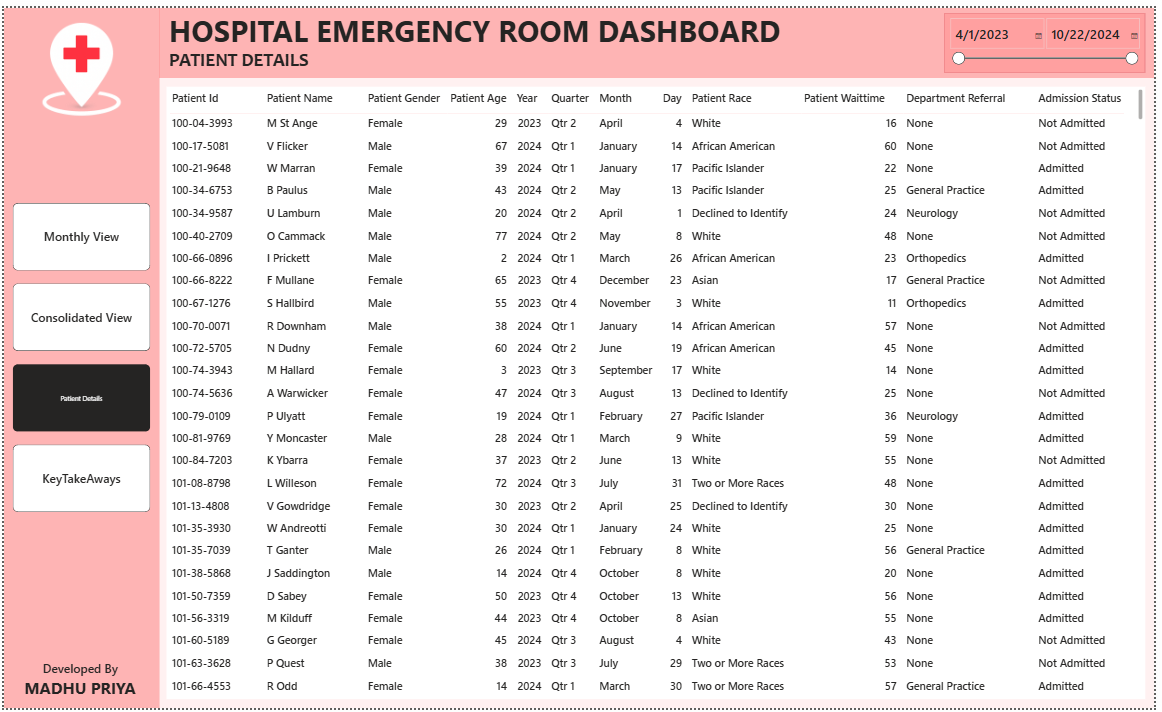

Layout of this report page (visuals, bound fields, positions):
{"tool":"powerbi","page":{"name":"Patient Details","canvas":[2300,1400],"ordinal":2},"visuals":[{"type":"shape","box":[0,0,311.1,1400],"z":0},{"type":"shape","box":[309.2,0,1990.8,140],"z":1000},{"type":"textbox","box":[325.7,0,1245.9,90.4],"z":2000},{"type":"textbox","box":[325,75,307.5,65],"z":3000},{"type":"slicer","fields":{"Values":["Date Table.Date"]},"box":[1880,10,402.5,120],"z":4000},{"type":"image","box":[30,0,250,237.5],"z":5000},{"type":"tableEx","fields":{"Values":["Hospital ER_Data.Patient Id","Hospital ER_Data.Patient Full Name","Hospital ER_Data.Patient Gender","Sum(Hospital ER_Data.Patient Age)","Hospital ER_Data.Patient Admission Date.Variation.Date Hierarchy.Year","Hospital ER_Data.Patient Admission Date.Variation.Date Hierarchy.Quarter","Hospital ER_Data.Patient Admission Date.Variation.Date Hierarchy.Month","Hospital ER_Data.Patient Admission Date.Variation.Date Hierarchy.Day","Hospital ER_Data.Patient Race","Sum(Hospital ER_Data.Patient Waittime)","Hospital ER_Data.Department Referral","Hospital ER_Data.Admission Status"]},"box":[325,157.5,1957.5,1225],"z":6000},{"type":"textbox","box":[0,1300,310,100],"z":7000},{"type":"pageNavigator","box":[17.5,390,275,620],"z":7001}]}

Visuals, with their boxes in screenshot pixels (x1, y1, x2, y2), scaled from the page's 2300x1400 canvas onto the 1162x712 screenshot:
shape: bbox=[0, 0, 157, 711]
shape: bbox=[156, 0, 1161, 71]
textbox: bbox=[165, 0, 794, 46]
textbox: bbox=[164, 38, 320, 71]
slicer - Date Table.Date: bbox=[950, 5, 1153, 66]
image: bbox=[15, 0, 141, 121]
tableEx - Hospital ER_Data.Patient Id x Hospital ER_Data.Patient Full Name: bbox=[164, 80, 1153, 703]
textbox: bbox=[0, 661, 157, 711]
pageNavigator: bbox=[9, 198, 148, 514]
